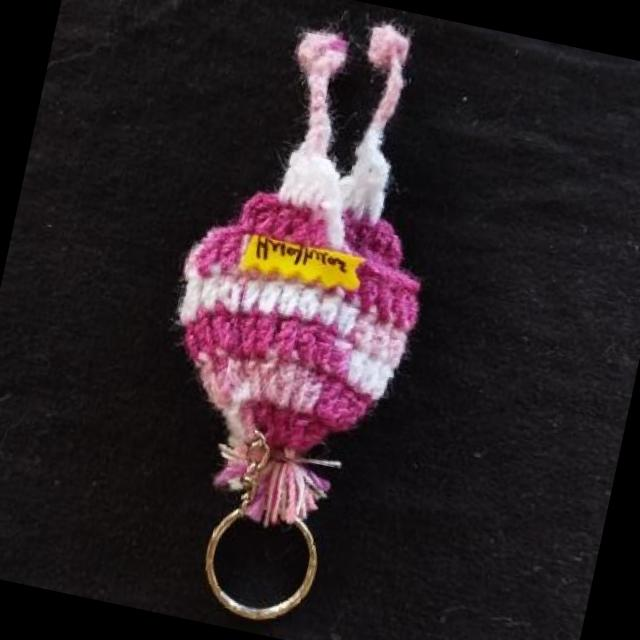Llavero: (112, 0, 479, 640)
